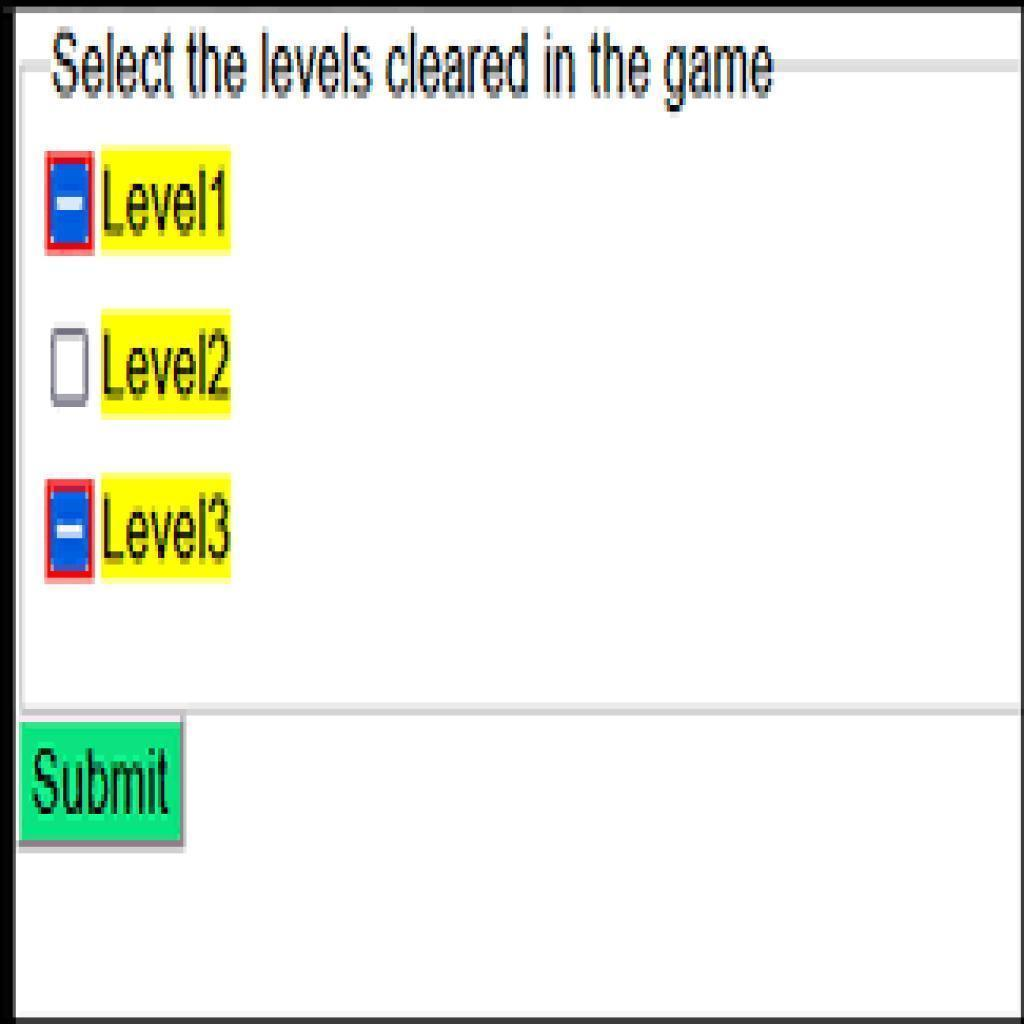button: (20, 723, 185, 840)
checkbox: (50, 331, 89, 407)
